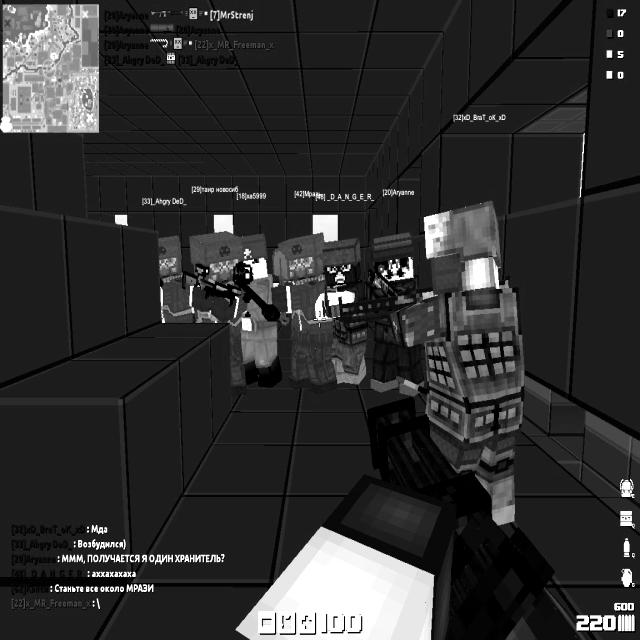Head: (422, 201, 508, 293), (274, 235, 328, 287), (315, 234, 364, 288), (369, 233, 414, 286), (194, 230, 241, 278), (227, 237, 270, 277), (154, 235, 184, 272)
Player: (410, 193, 521, 526), (211, 231, 288, 397), (178, 229, 253, 397), (263, 232, 338, 394), (366, 229, 426, 400), (306, 234, 368, 398), (149, 235, 193, 327)
